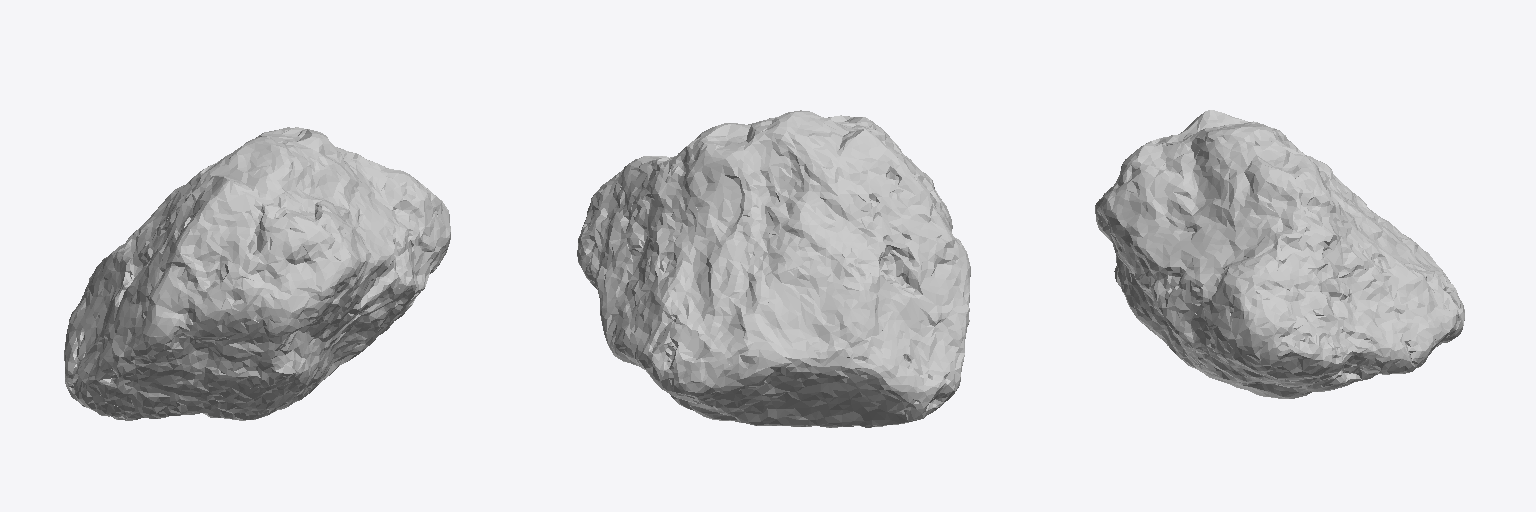
File: stone_4.obj
3 views of the same model, side by side, from view 1: azimuth 30°, elevation 25°; view 2: azimuth 150°, elevation 25°; view 3: azimuth 270°, elevation 25° (orthographic).
Visible parts, largest first — view 1: Rock.002; view 2: Rock.002; view 3: Rock.002.
Part boxes in pixels (x1,y1,x2,y2): Rock.002: (64, 127, 450, 420); Rock.002: (577, 110, 970, 427); Rock.002: (1095, 110, 1464, 398).
Bounding box in the file's own units: 0.5097 × 0.3355 × 0.4458.